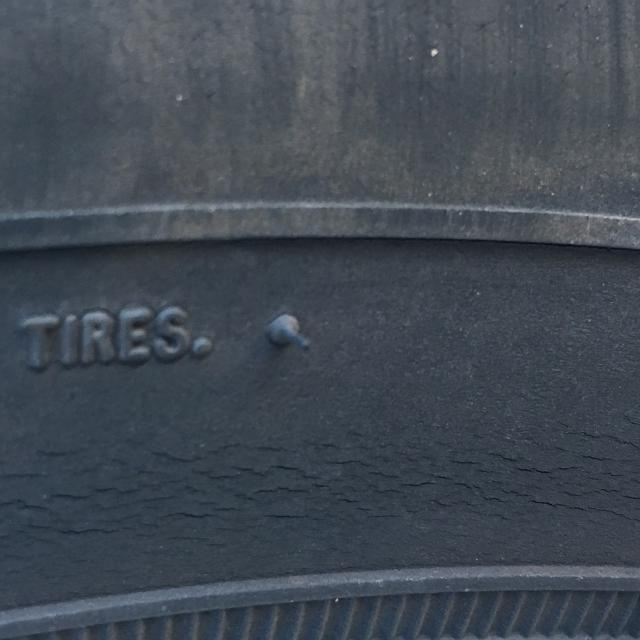Cracks: (0, 402, 640, 580)
Non-defective: (0, 0, 640, 385)
